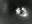person: (21, 8, 30, 19), (16, 8, 22, 15)
